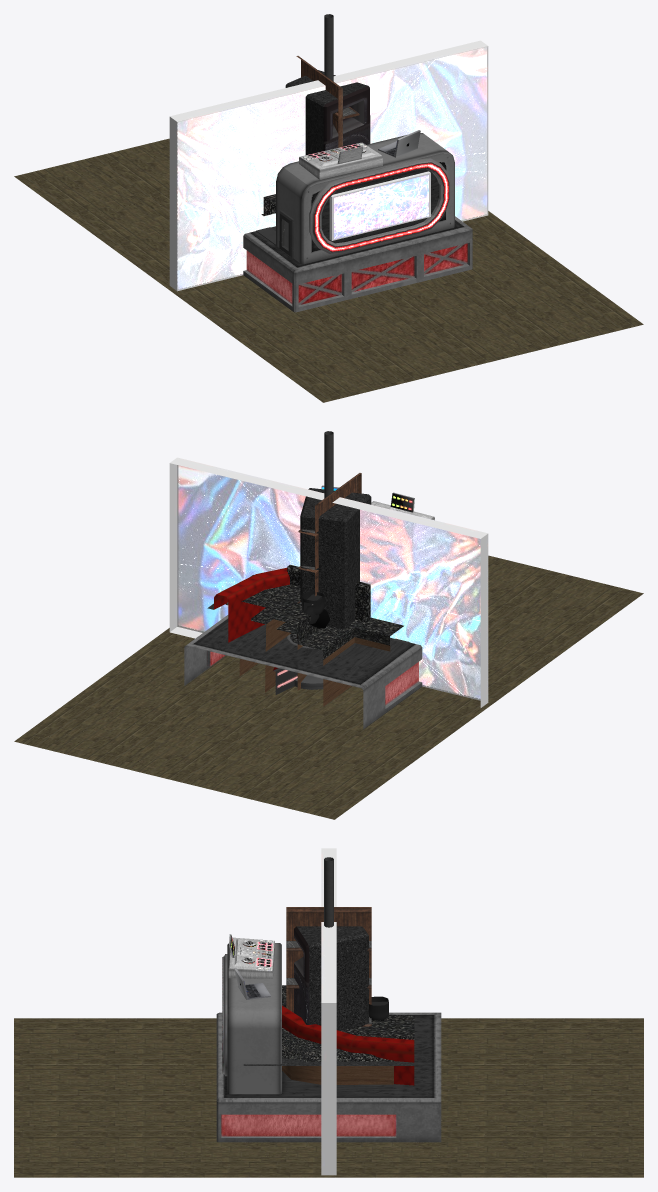
Rendered from club-kit.glb.
3 renders of one model, top to bottom at view 1: azimuth 30°, elevation 25°; view 2: azimuth 150°, elevation 25°; view 3: azimuth 270°, elevation 25°, orthographic.
Parts seen in each view (by area): view 1: dancefloor, screen, djstand, speaker, shelf, bench, pole; view 2: dancefloor, screen, djstand, speaker, bar, bench, barcorner, shelf, barend, swivel, pole; view 3: dancefloor, djstand, speaker, screen, bench, barcorner, shelf, bar, pole.
Boxes of the visible parts, x1,y1,x2,y2 form: dancefloor: (14, 138, 643, 402); screen: (169, 40, 488, 291); djstand: (243, 130, 472, 312); speaker: (285, 70, 370, 154); shelf: (296, 56, 359, 147); bench: (256, 210, 293, 258); pole: (324, 14, 333, 81); dancefloor: (14, 555, 643, 819); screen: (169, 457, 488, 707); djstand: (184, 485, 434, 729); speaker: (300, 488, 371, 628); bar: (251, 588, 362, 706); bench: (207, 567, 409, 694); barcorner: (225, 584, 403, 690); shelf: (297, 473, 361, 638); barend: (287, 565, 370, 621); swivel: (301, 591, 329, 628); pole: (324, 431, 333, 498); dancefloor: (14, 1018, 643, 1177); djstand: (216, 934, 441, 1142); speaker: (294, 926, 368, 1030); screen: (321, 848, 336, 1175); bench: (243, 1005, 414, 1085); barcorner: (282, 985, 393, 1084); shelf: (286, 907, 371, 1026); bar: (340, 1015, 414, 1039); pole: (324, 857, 333, 927).
Bounding box in the file's own units: 4.05 × 2.83 × 6.77.
Materials: 17 (15 with a texture image).
